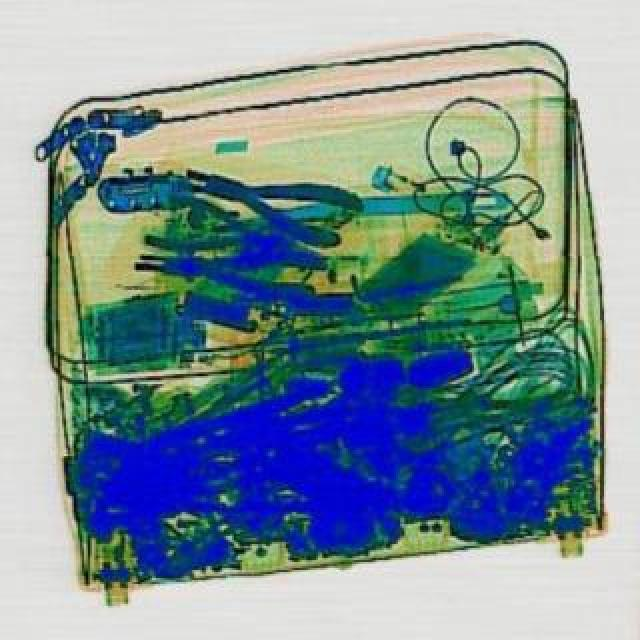wrench: (176, 142, 374, 254), (144, 184, 334, 278), (134, 232, 332, 304)
